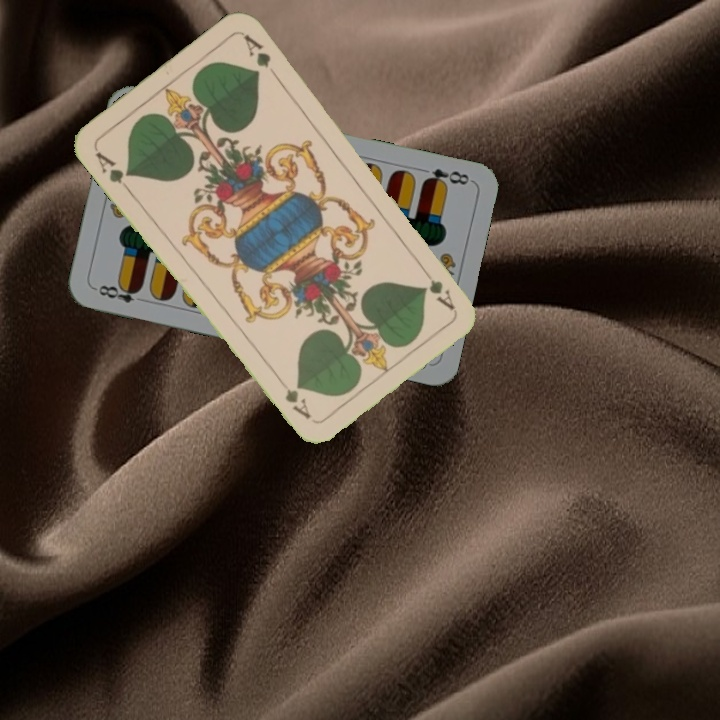E8: (418, 164, 472, 190), (91, 280, 144, 306)
GA: (416, 261, 458, 313), (91, 147, 134, 196)
